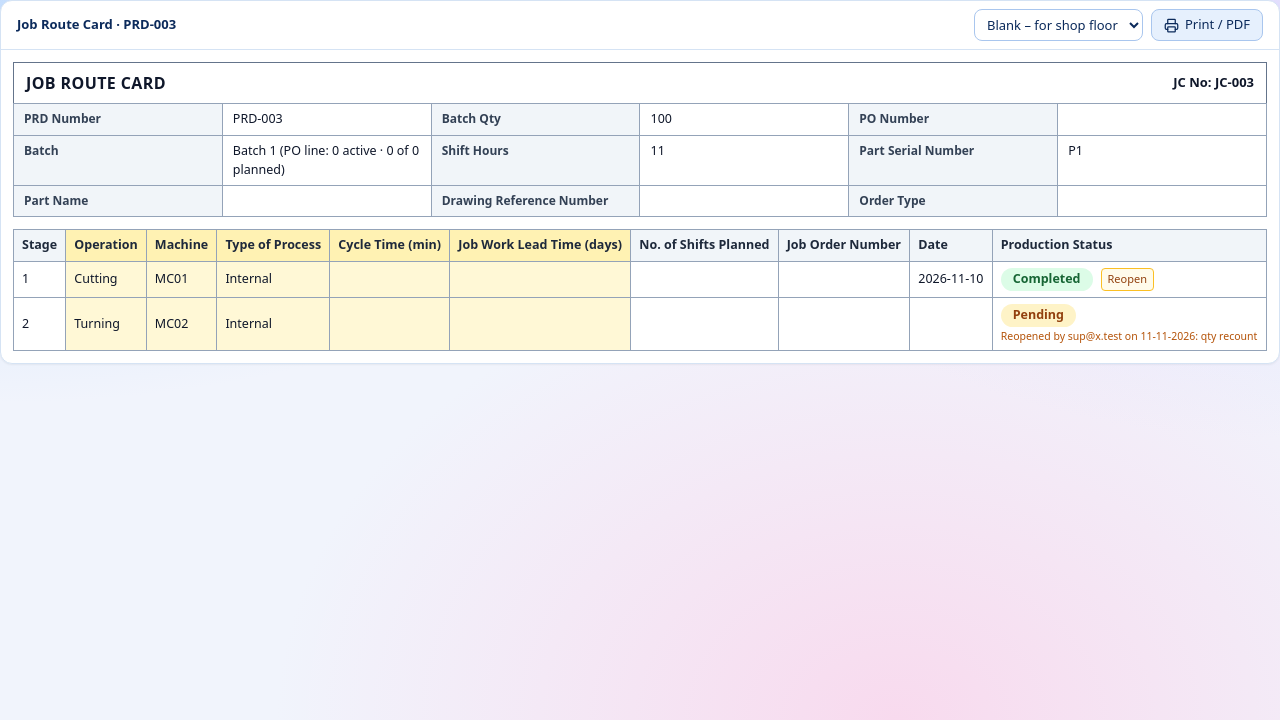
Test case: Job Route Card -- Reopen stage (049) › DB refusal is shown as a toast
The image size is (1280, 720).
expect the text "Cutting" is shown: met, box [66, 262, 146, 297]
Step 1. Click the button with aria-label "Reopen stage 1" → {"x": 1127, "y": 279}, box [1100, 268, 1154, 290]
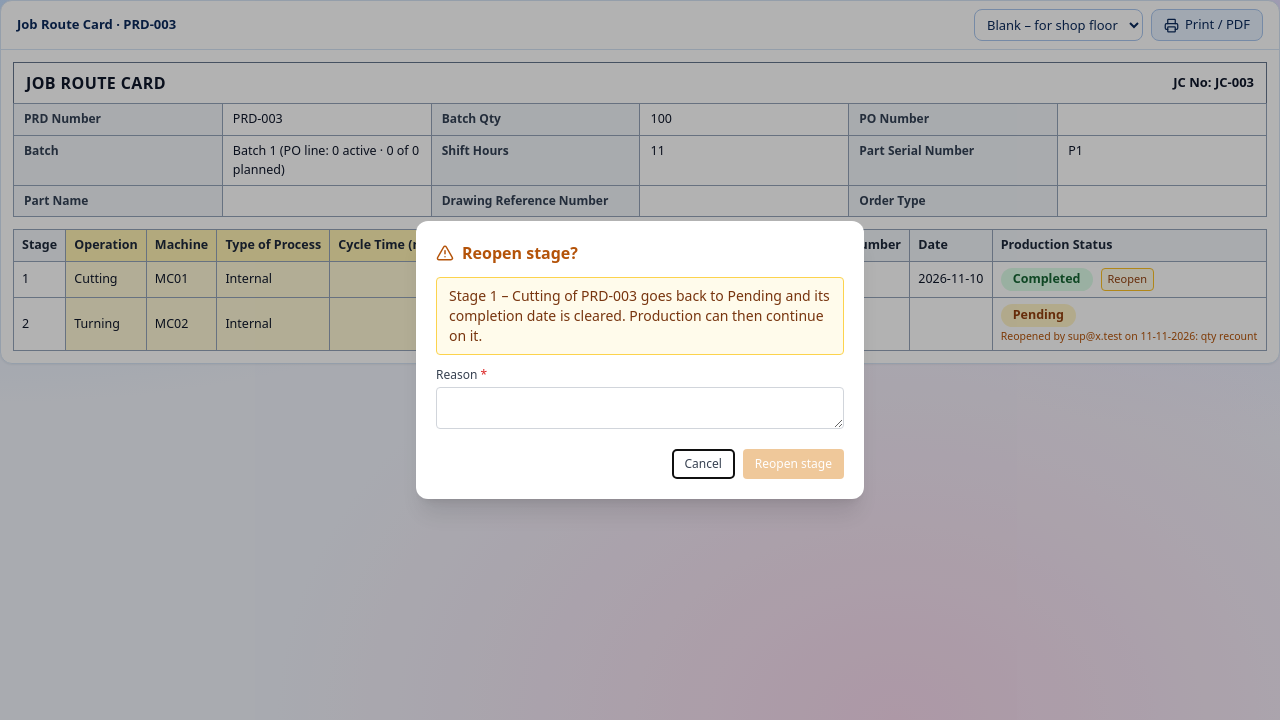
Step 2. Type "x" into the text box named "Reopen reason" → {"x": 640, "y": 408}, box [436, 387, 844, 429]
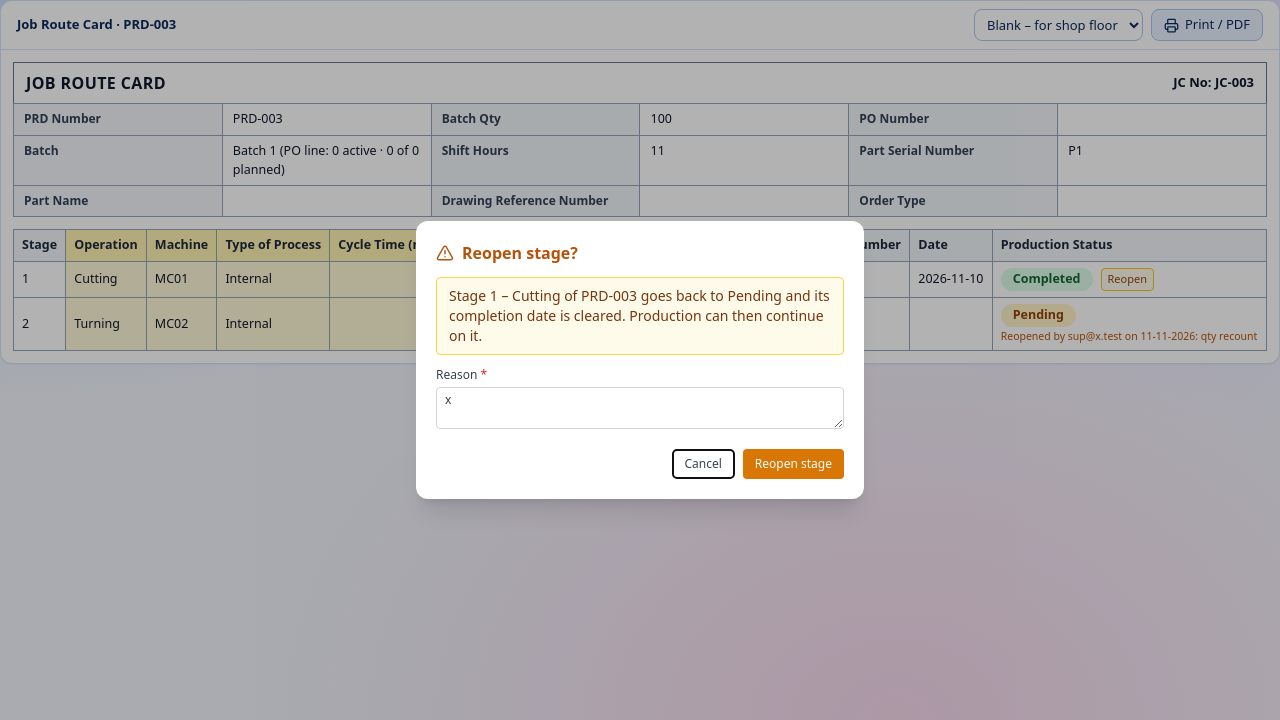
Step 3. Click the button "Reopen stage" → {"x": 793, "y": 464}, box [743, 449, 844, 479]
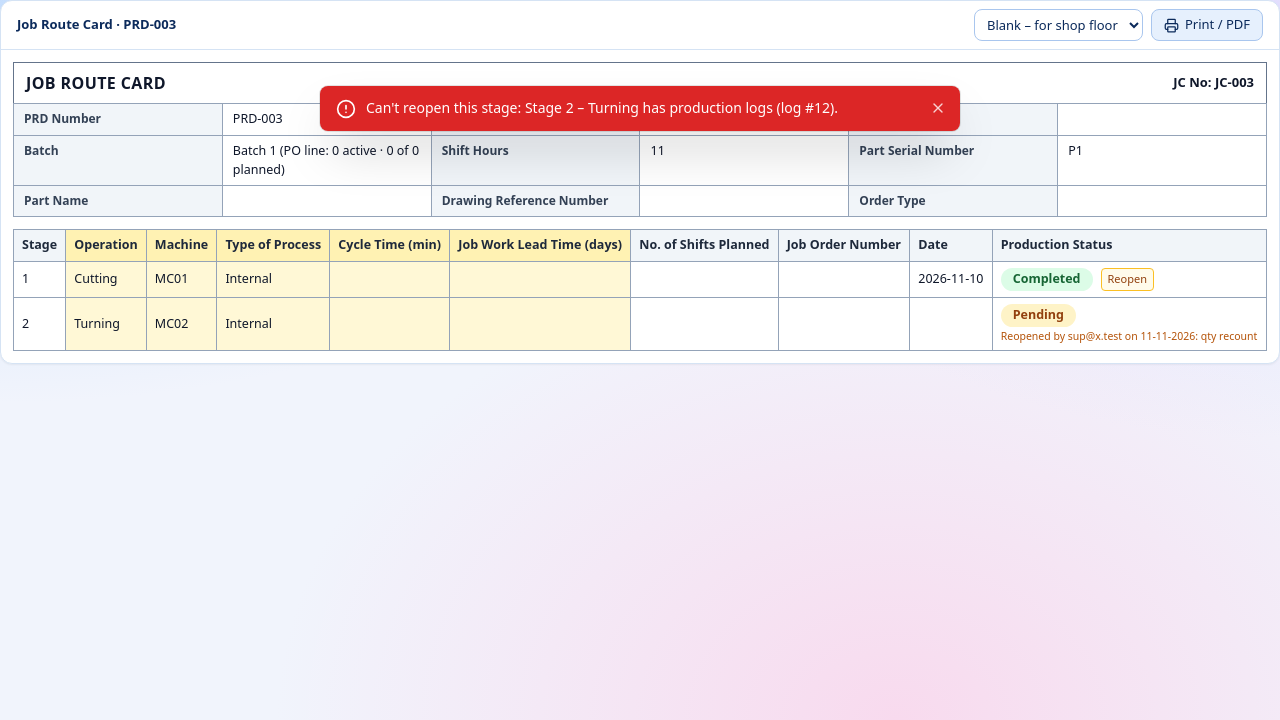
expect the text "has production logs (log #12)" is shown: met, box [366, 98, 838, 117]
